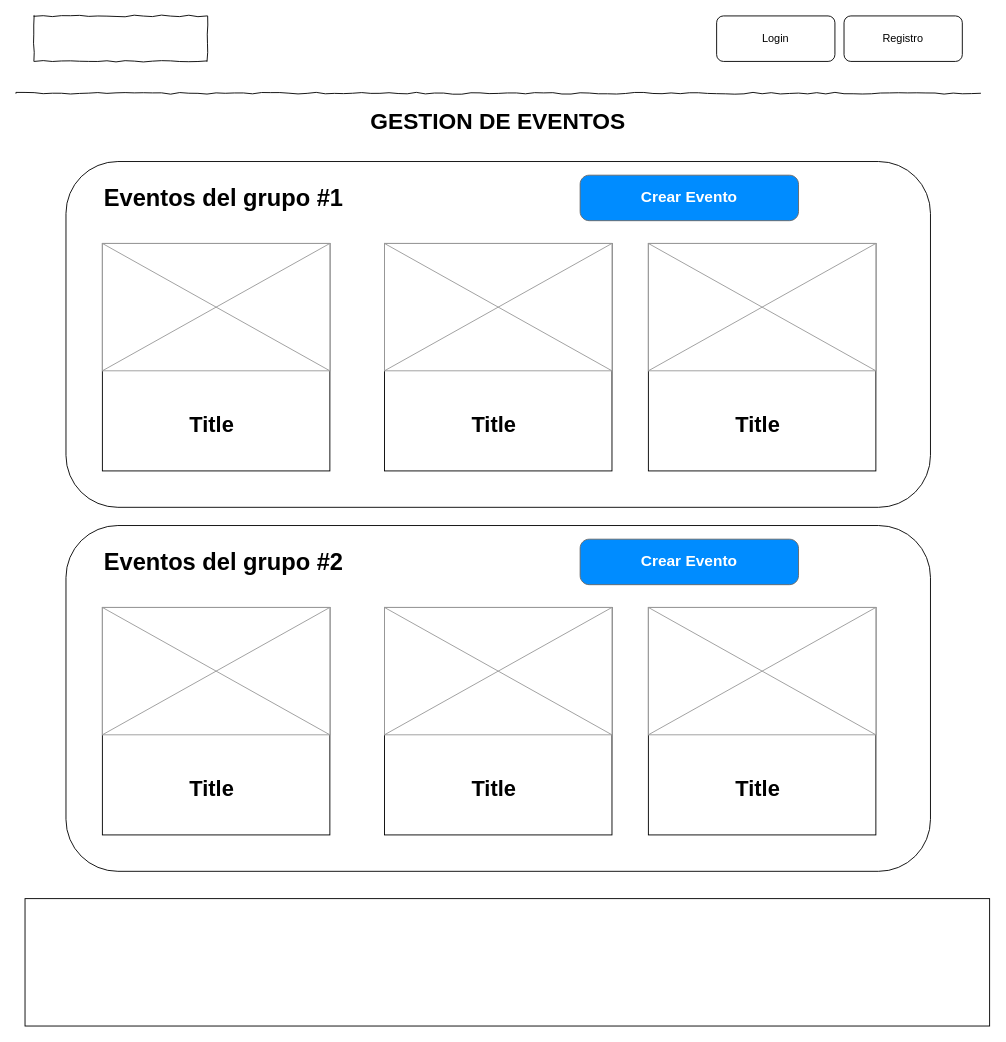
The diagram is 1006 pixels wide and 1042 high, and some of its shapes have lost their labels. Here are the shapes that lost their labels. From the top down, the centre of each, then its label:
the point at 120,38: LOGO
the point at 507,962: Footer
